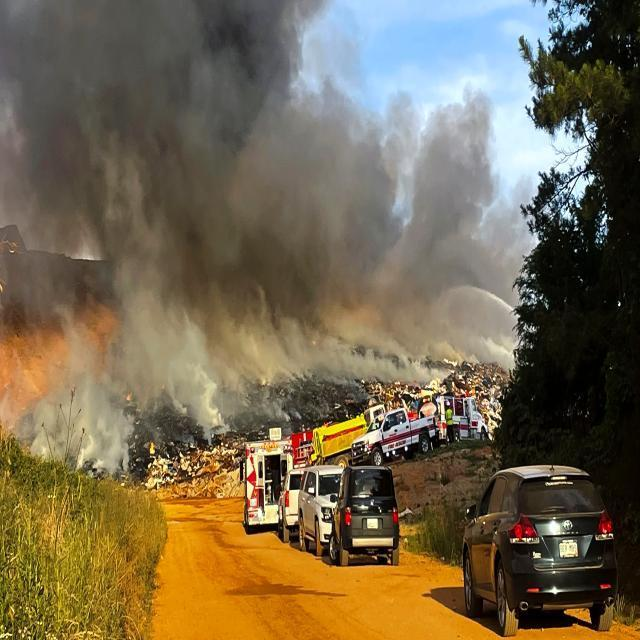Smoke: (0, 0, 506, 379)
